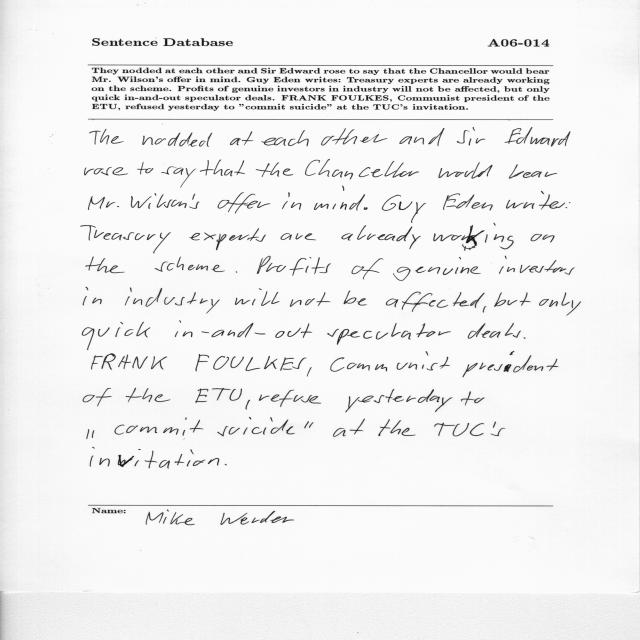word: (131, 192, 255, 214), (327, 323, 451, 345), (90, 448, 219, 469), (81, 225, 171, 253), (330, 351, 450, 372), (463, 352, 559, 378), (345, 389, 453, 412), (125, 288, 220, 314), (175, 321, 312, 338), (305, 160, 419, 180), (433, 223, 514, 251), (393, 257, 481, 281), (386, 292, 485, 312), (341, 225, 421, 249), (83, 322, 151, 350), (196, 354, 307, 371), (189, 228, 266, 250), (115, 418, 204, 436), (217, 418, 295, 437), (257, 256, 331, 276), (499, 256, 575, 275), (505, 127, 571, 147), (91, 353, 167, 370), (314, 186, 365, 211), (382, 195, 426, 223), (321, 129, 388, 146), (506, 191, 565, 210), (434, 422, 505, 437), (259, 390, 321, 407), (155, 257, 225, 272), (539, 292, 581, 316), (142, 133, 212, 147), (439, 162, 493, 179), (443, 194, 493, 211), (468, 323, 521, 339), (400, 128, 445, 146), (235, 288, 280, 306), (161, 166, 196, 188), (261, 130, 309, 146), (200, 160, 245, 177), (509, 164, 557, 179), (195, 388, 242, 403), (352, 259, 384, 280), (379, 419, 416, 436), (86, 257, 125, 273), (126, 388, 170, 402), (290, 292, 331, 307), (333, 419, 365, 437), (494, 292, 531, 307), (83, 388, 112, 406), (256, 163, 293, 177), (90, 129, 124, 144), (457, 128, 485, 146), (88, 196, 119, 210), (85, 167, 129, 176), (344, 291, 367, 306), (282, 192, 301, 210), (83, 287, 102, 305), (230, 132, 254, 146), (461, 392, 485, 406), (281, 233, 316, 240), (244, 201, 271, 209), (137, 162, 153, 175), (531, 234, 555, 242), (87, 429, 94, 439), (305, 422, 314, 429), (307, 367, 312, 377), (246, 400, 250, 410), (566, 202, 571, 208), (483, 306, 486, 313), (364, 207, 368, 210), (524, 337, 526, 339), (236, 271, 237, 273), (225, 464, 227, 465)
